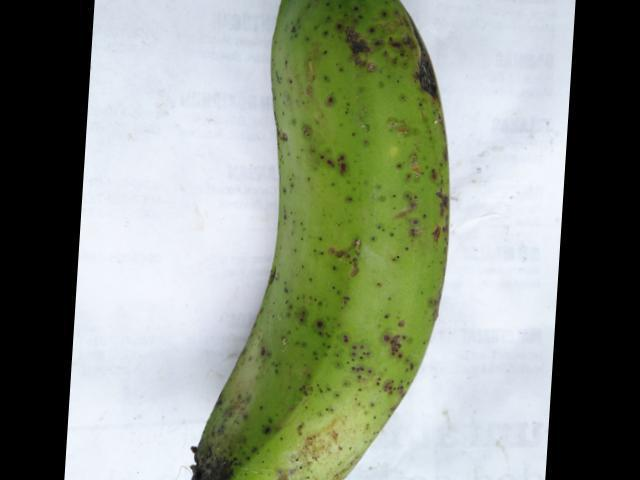unripe: (183, 0, 459, 479)
